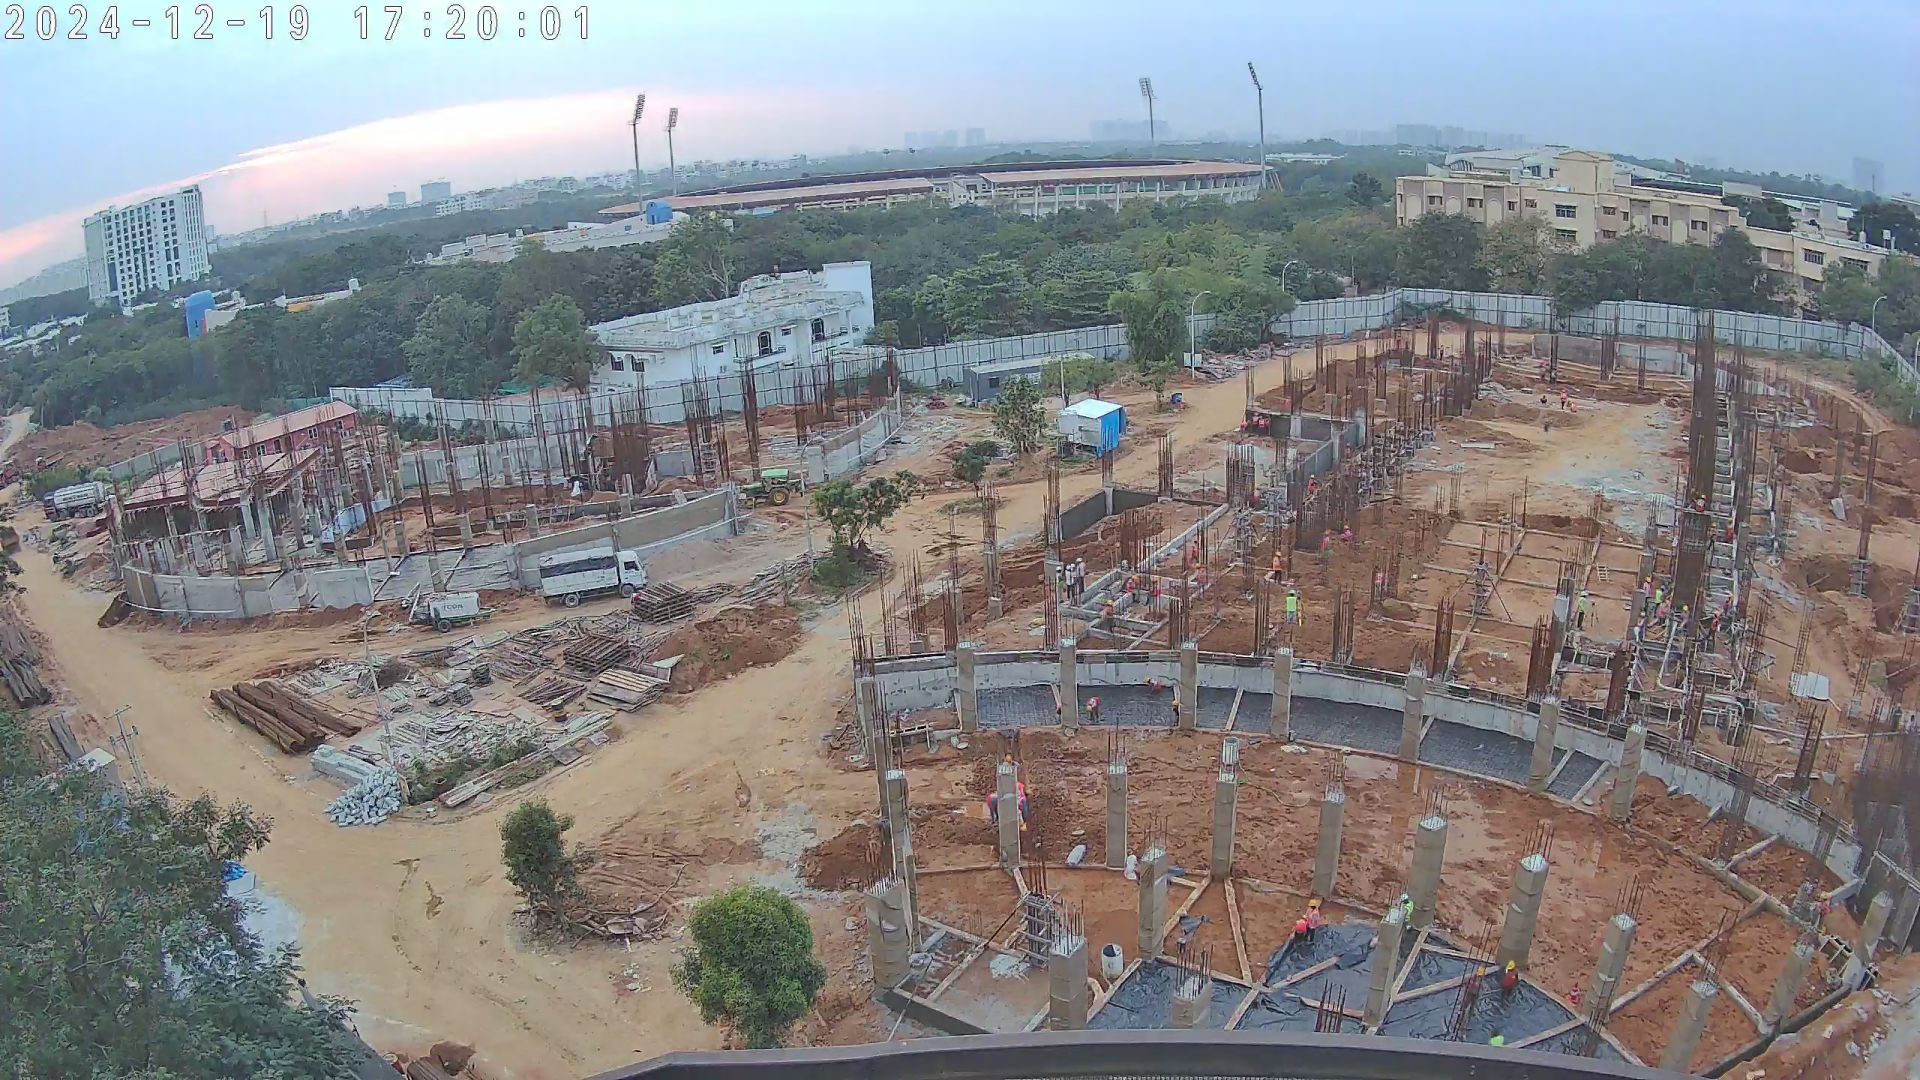bulldozer: (731, 466, 799, 507)
truck: (538, 546, 647, 608), (36, 483, 109, 520)
worker: (1463, 964, 1488, 1028), (1496, 954, 1519, 1013), (1398, 890, 1419, 943), (1567, 587, 1591, 633), (1306, 895, 1324, 951), (1274, 580, 1299, 618), (981, 785, 999, 824), (1075, 555, 1091, 594), (1264, 553, 1283, 583), (1634, 609, 1649, 642), (1294, 916, 1309, 949), (1142, 674, 1164, 696), (1709, 609, 1720, 651), (1053, 565, 1065, 603), (1064, 562, 1075, 602), (1088, 690, 1102, 720), (1708, 519, 1720, 553), (1693, 490, 1708, 515), (1892, 699, 1903, 732), (1640, 574, 1652, 600), (1655, 583, 1664, 617), (1306, 472, 1319, 495), (1339, 525, 1354, 544), (1725, 516, 1735, 543), (1907, 712, 1918, 736), (1721, 593, 1731, 617), (1236, 415, 1249, 433), (1250, 411, 1260, 434), (1265, 414, 1275, 436), (1343, 441, 1354, 461), (1258, 414, 1266, 439), (1559, 388, 1567, 409)
